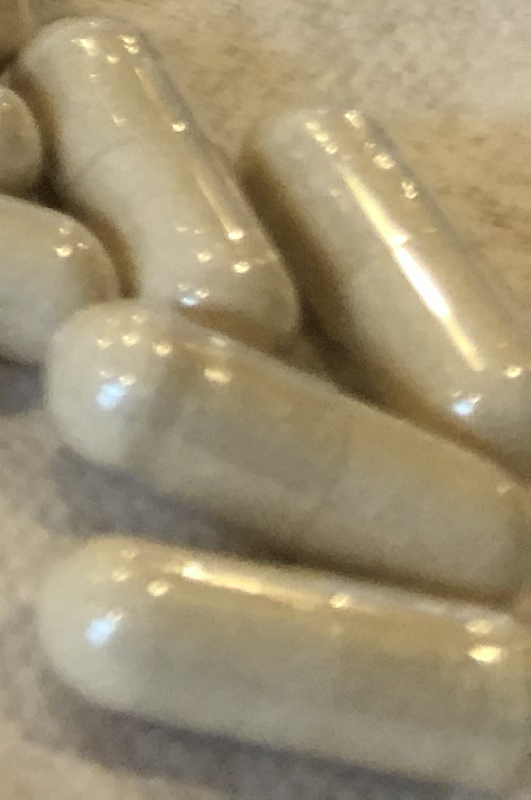capsule: (42, 299, 531, 612), (37, 533, 531, 798), (235, 111, 531, 468), (17, 14, 303, 347), (1, 192, 125, 367)
